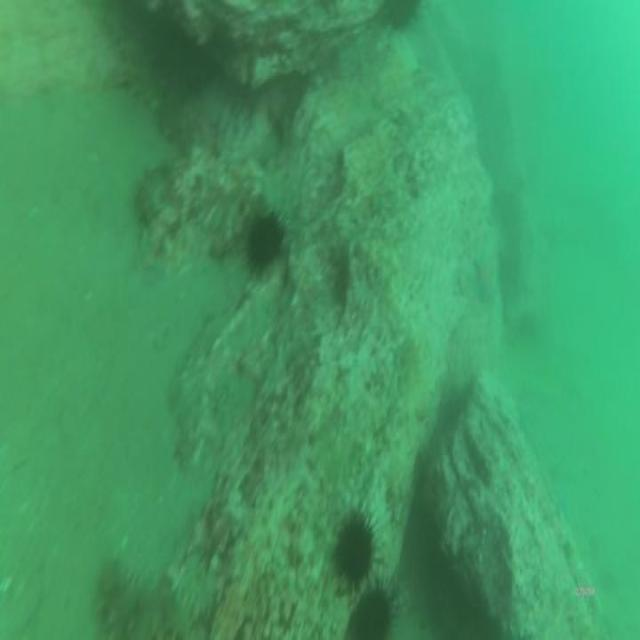echinus: (332, 506, 379, 600), (238, 207, 289, 280), (345, 577, 395, 640), (372, 0, 423, 35)
holothurian: (94, 558, 188, 640)
